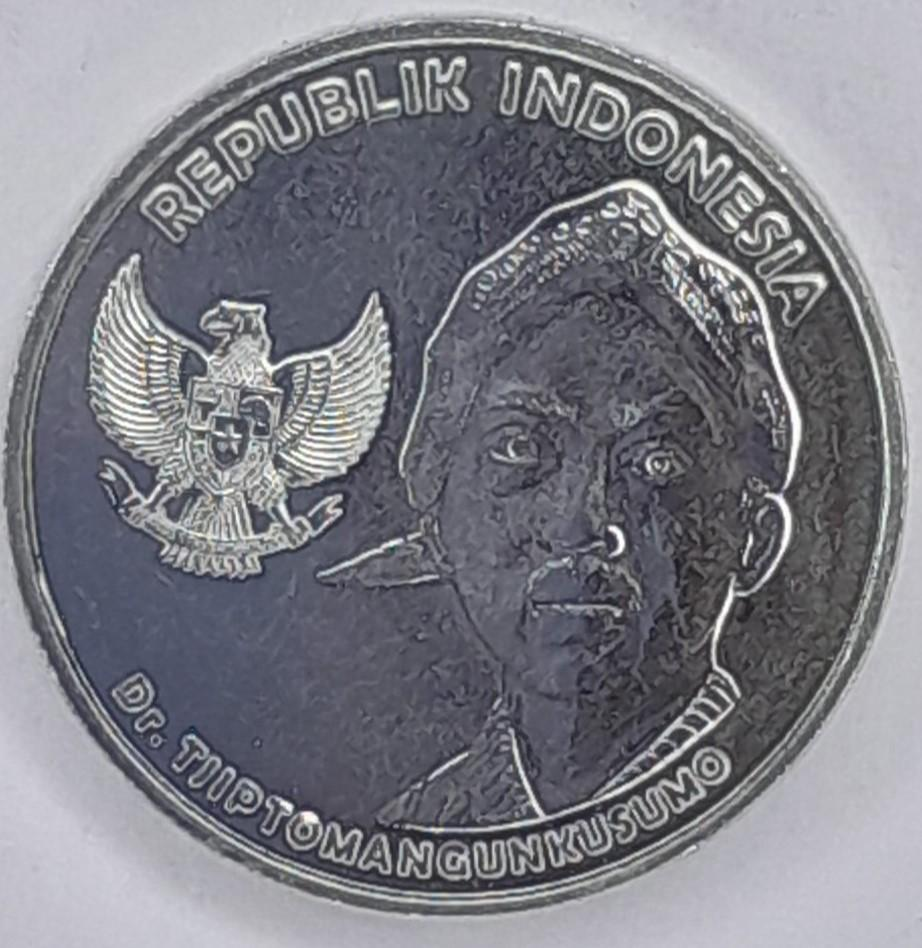coin_200_e2016: (0, 16, 922, 948)
